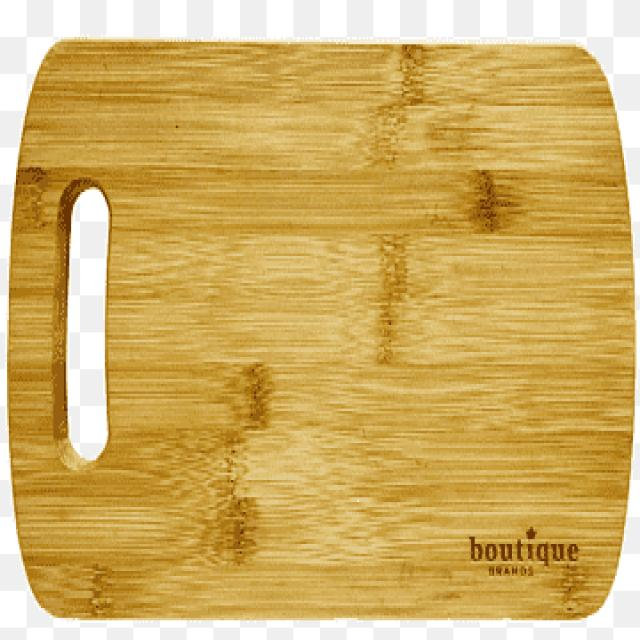Talenan: (7, 17, 640, 640)
